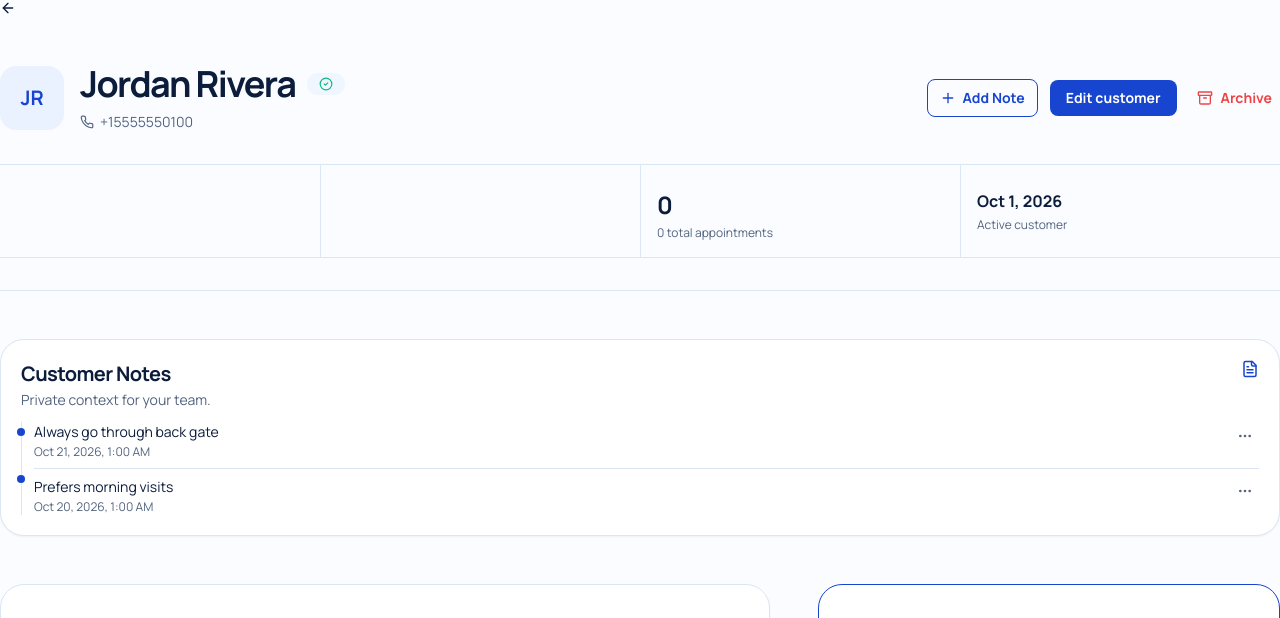
Test case: Customer profile notes › with existing notes › asks for confirmation before removing, and Cancel keeps the note
expect the text "Always go through back gate" is shown: met, box [34, 422, 219, 442]
Click the button named "Note actions" in the row of "Always go through back gate" at (1245, 436), box [1231, 422, 1259, 450]
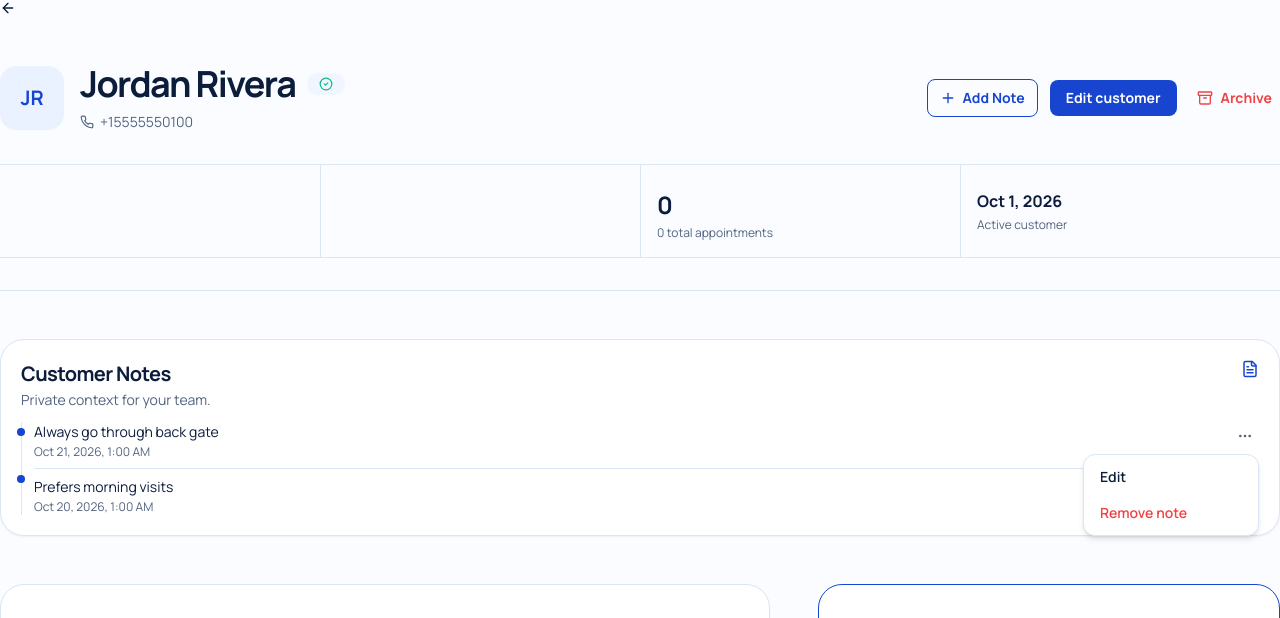
Click the menu item "Remove note" at (1171, 513), box [1088, 495, 1254, 531]
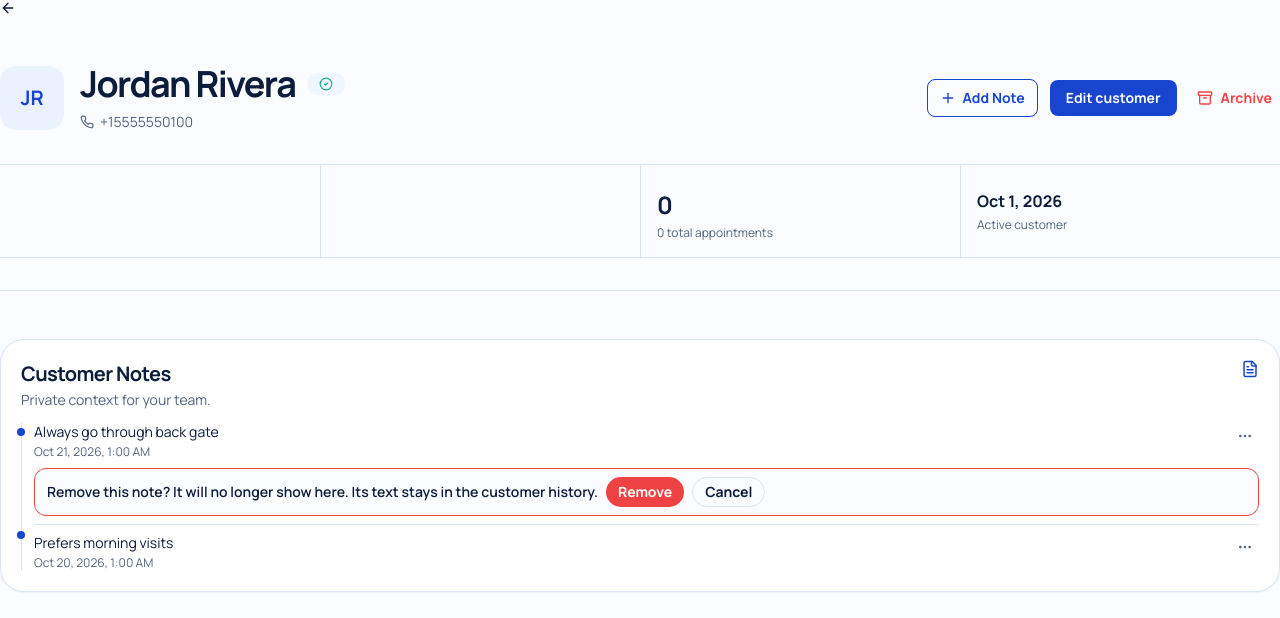
expect the dialog named "Confirm note removal" is shown: met, box [34, 468, 1259, 516]
Click the button "Cancel" at (729, 492), box [692, 477, 765, 507]
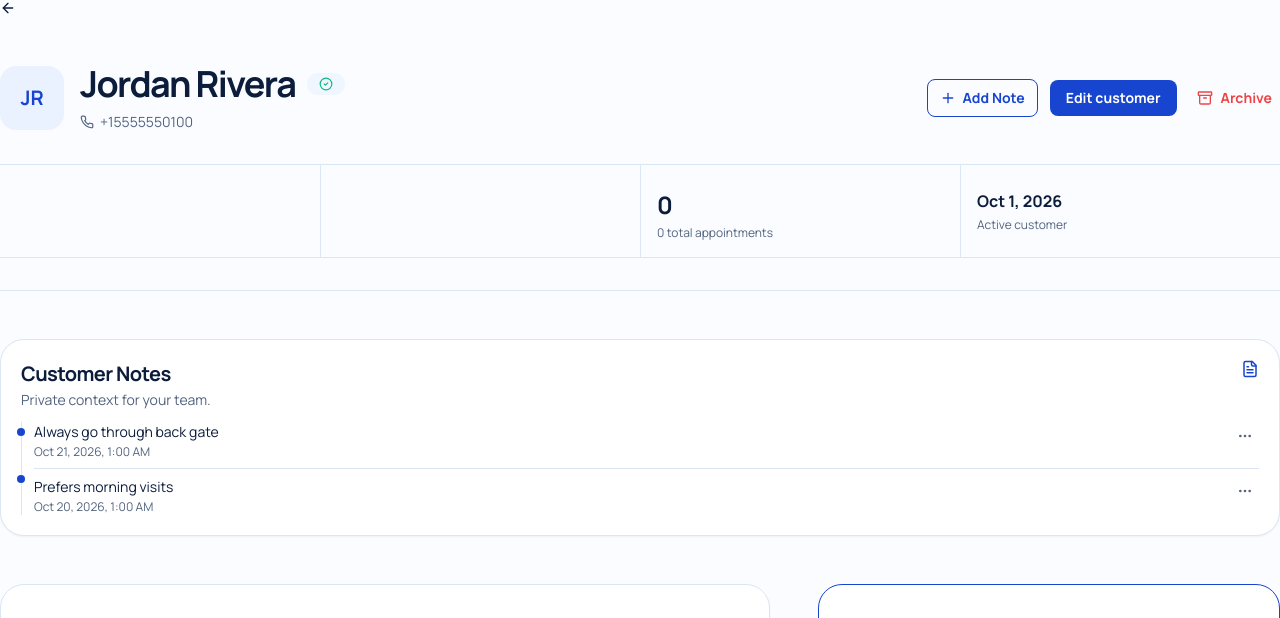
expect the text "Always go through back gate" is shown: met, box [34, 422, 219, 442]
expect the dialog is gone: met
